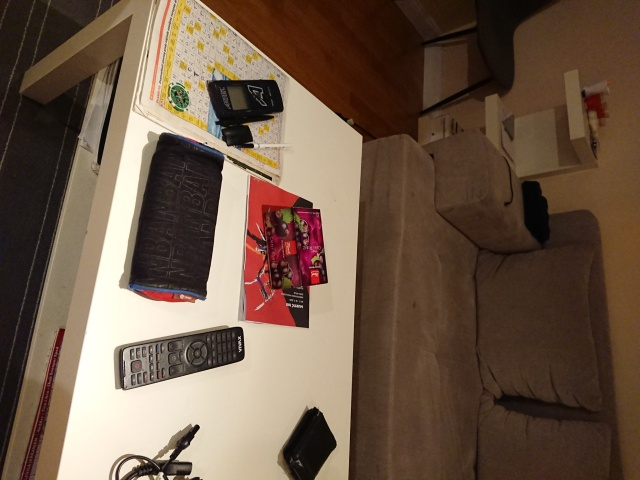Franck Black Currant Tea 60g: (260, 204, 330, 292)
